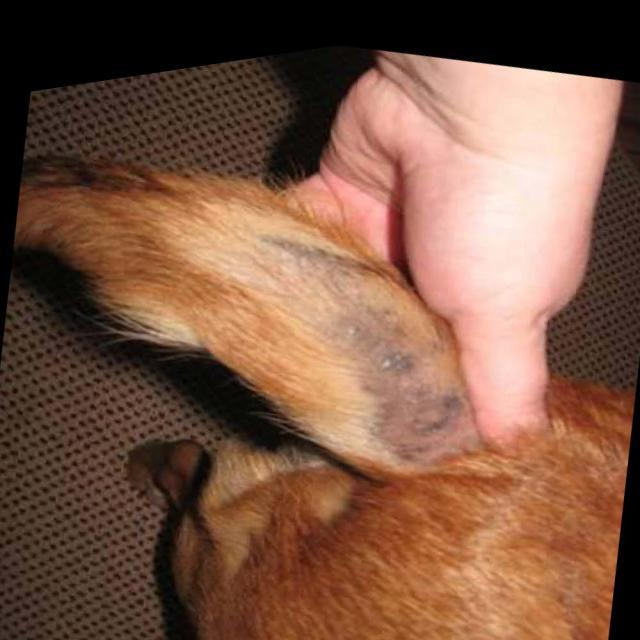allergic dermatitis: (319, 292, 478, 470), (159, 232, 376, 350)
